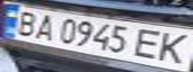0: (54, 16, 78, 46)
4: (90, 21, 115, 52)
5: (109, 22, 136, 56)
9: (72, 18, 96, 48)
A: (30, 11, 60, 42)
B: (9, 8, 42, 36)
E: (130, 26, 169, 61)
K: (151, 29, 193, 66)
